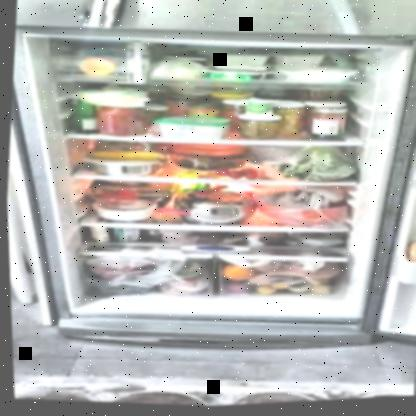banana: (88, 147, 162, 165)
cheese: (158, 115, 228, 144), (87, 88, 144, 108)
cream_cheese: (205, 69, 272, 85)
lemon: (252, 287, 276, 299)
lettuce: (285, 148, 352, 186)
mineral_water: (71, 100, 99, 136)
orange: (221, 265, 254, 283)
tomato: (99, 188, 139, 203), (215, 169, 257, 183)
tomato_paste: (98, 102, 148, 140)
yoghurt: (241, 98, 276, 121)
